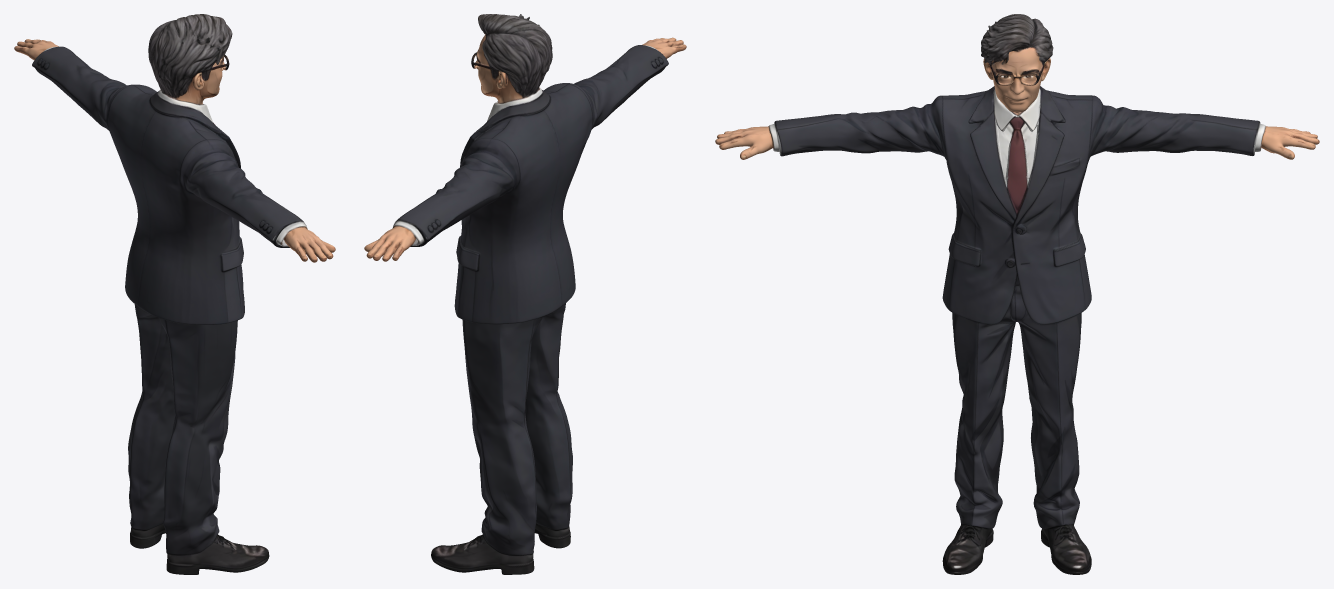
File: salaryman-tripo-02.glb
The picture shows the model from 3 angles, left to right: view 1: azimuth 30°, elevation 25°; view 2: azimuth 150°, elevation 25°; view 3: azimuth 270°, elevation 25°; orthographic projection.
Visible parts, largest first — view 1: tripo_node_86fb124e-7d46-4581-b4b2-fb4d0324de52; view 2: tripo_node_86fb124e-7d46-4581-b4b2-fb4d0324de52; view 3: tripo_node_86fb124e-7d46-4581-b4b2-fb4d0324de52.
Boxes of the visible parts, x1,y1,x2,y2 form: tripo_node_86fb124e-7d46-4581-b4b2-fb4d0324de52: (14,14,335,574); tripo_node_86fb124e-7d46-4581-b4b2-fb4d0324de52: (364,14,686,574); tripo_node_86fb124e-7d46-4581-b4b2-fb4d0324de52: (715,14,1319,574).
Size of the model in its own units: 0.1917 by 0.9796 by 1.
1 material, 1 textured.
